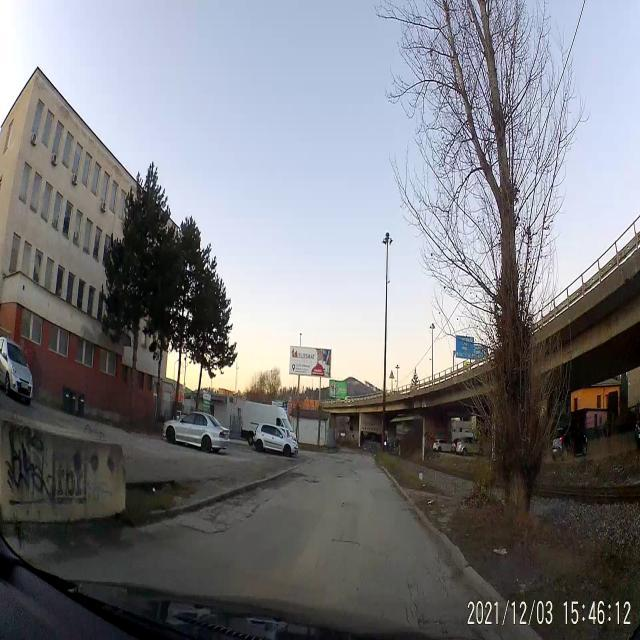Pothole: (184, 521, 228, 536)
